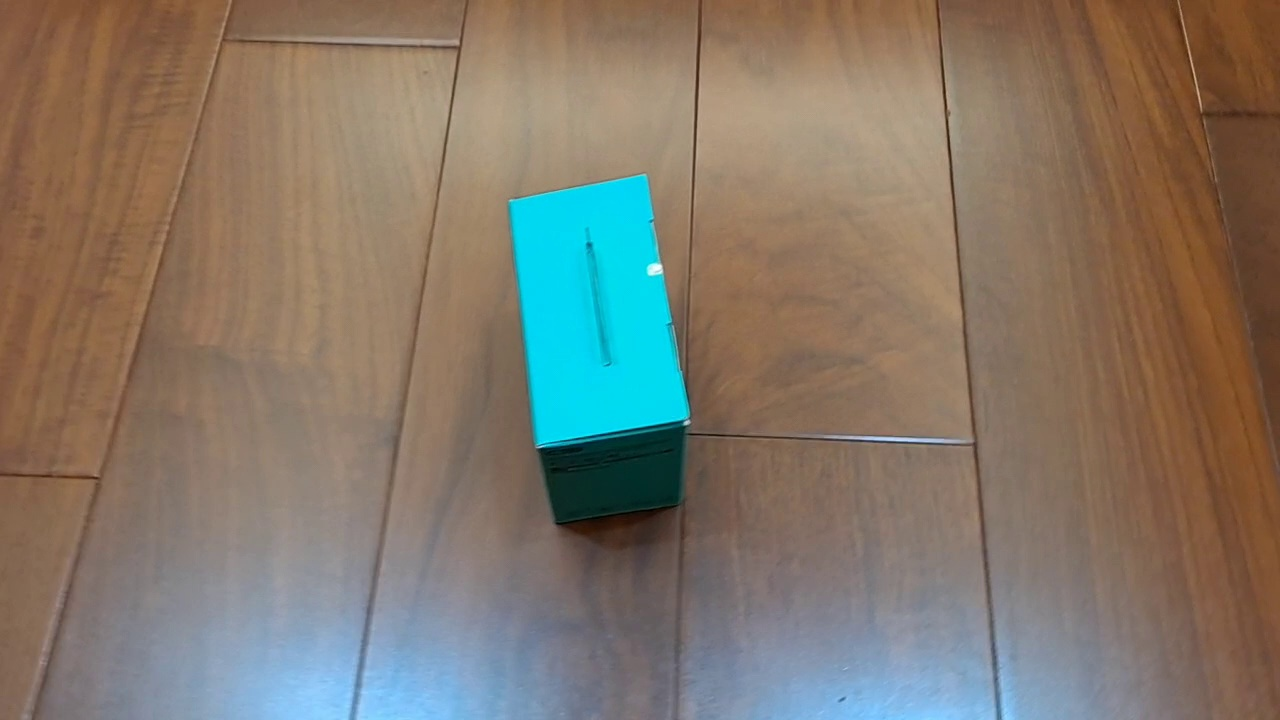webcam: (507, 172, 693, 527)
